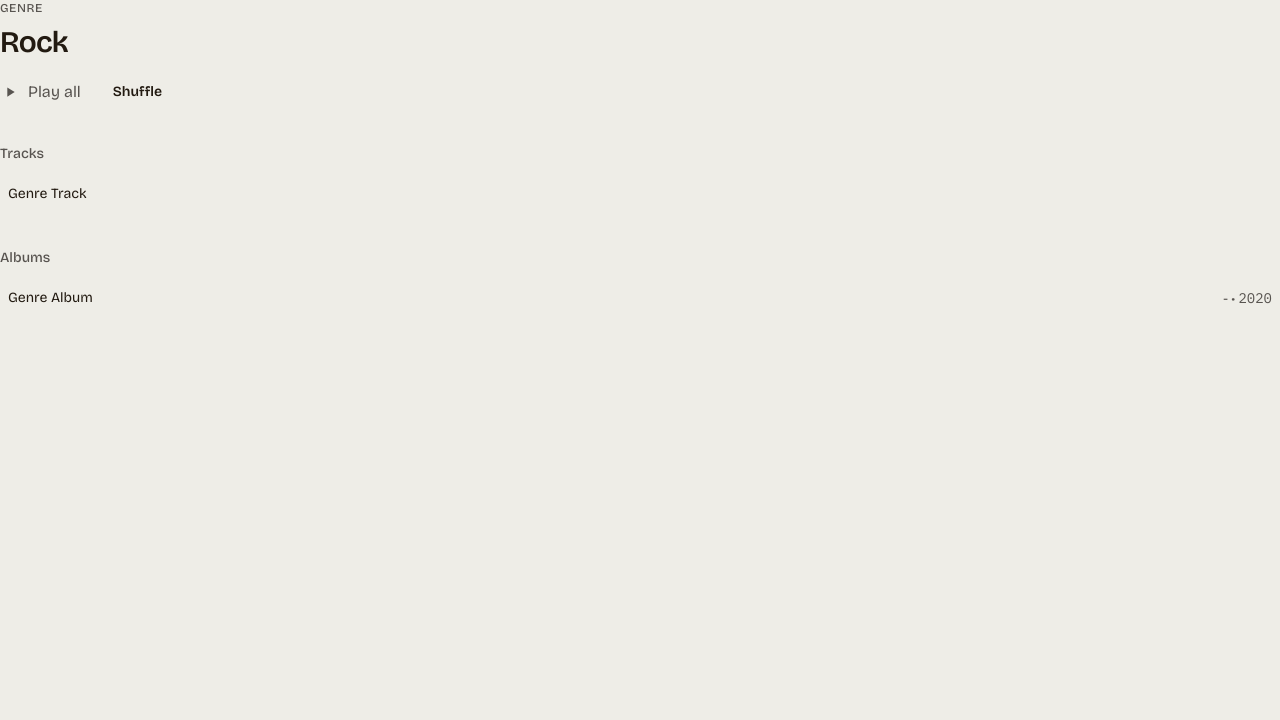
it: Genre › does not delete the genre when the confirm dialog is cancelled
Expected: the text "Genre Track" is shown, x1=8 y1=184 x2=87 y2=204
Step 1. Right-click the heading "Rock" → (34, 42), box x1=0 y1=24 x2=68 y2=60
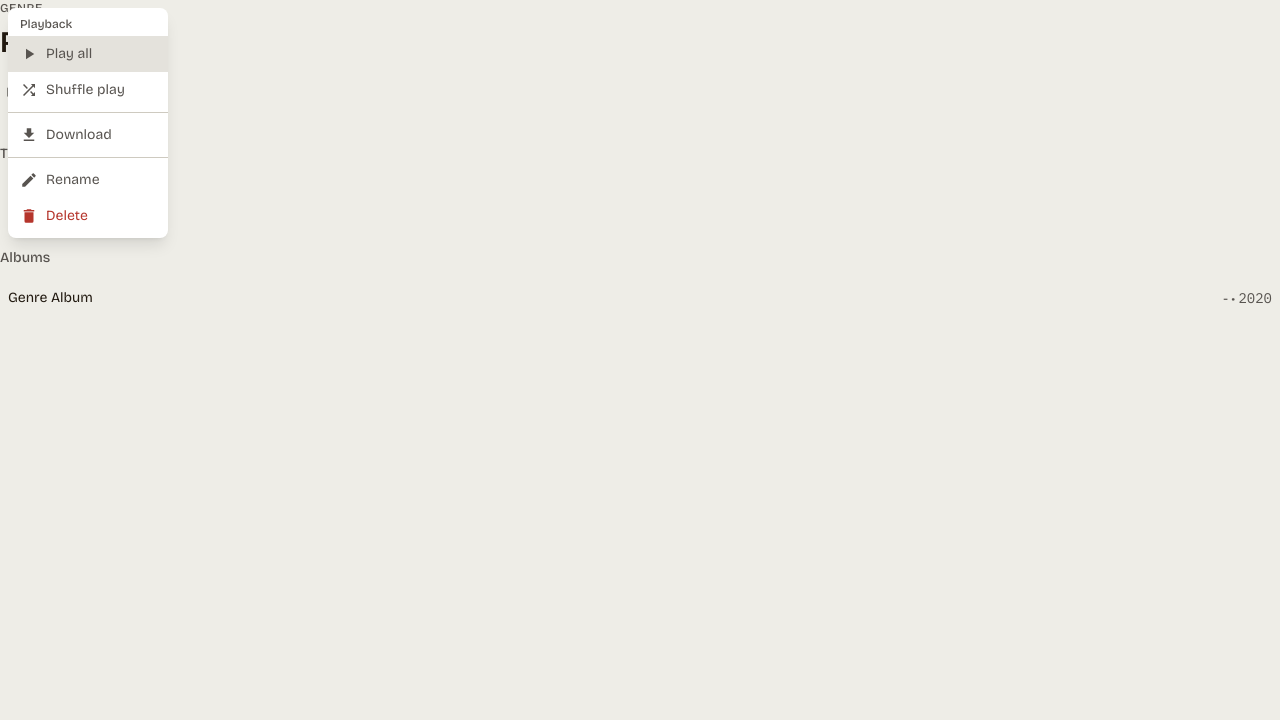
Step 2. Click the menu item "Delete" → (88, 216), box x1=8 y1=198 x2=168 y2=234
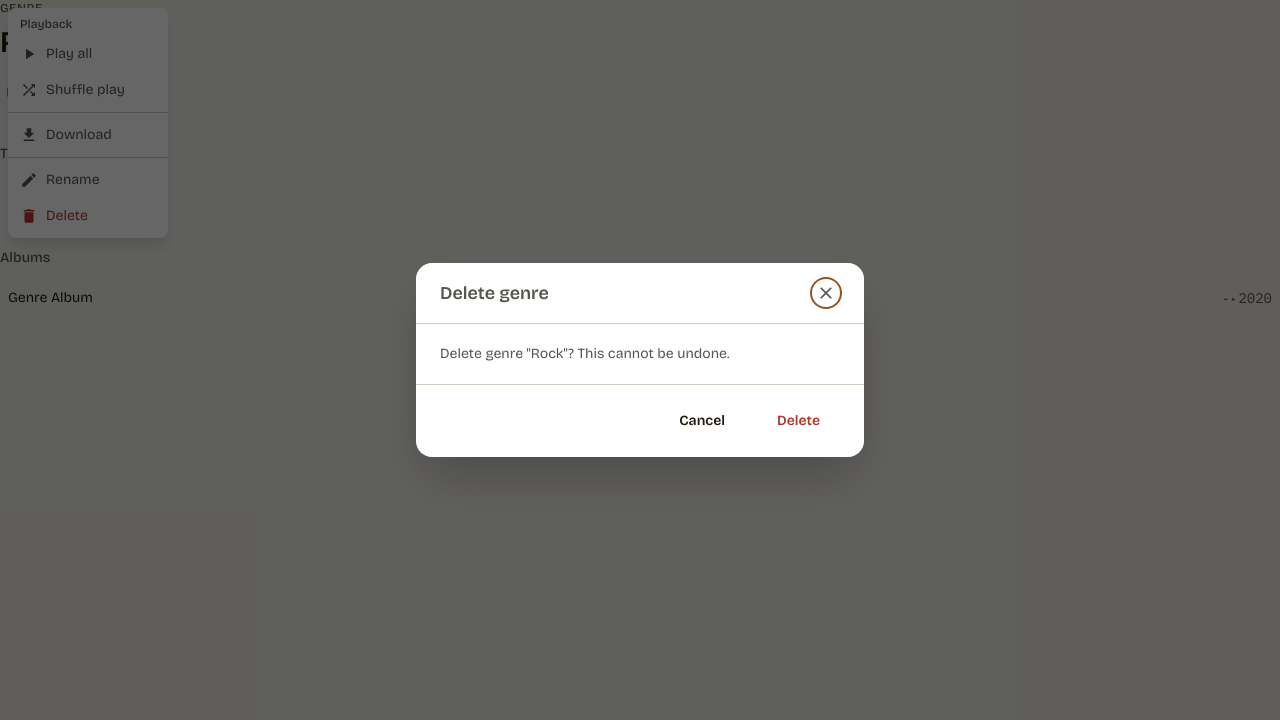
Step 3. Click the button "Cancel" → (702, 421), box x1=659 y1=401 x2=745 y2=441
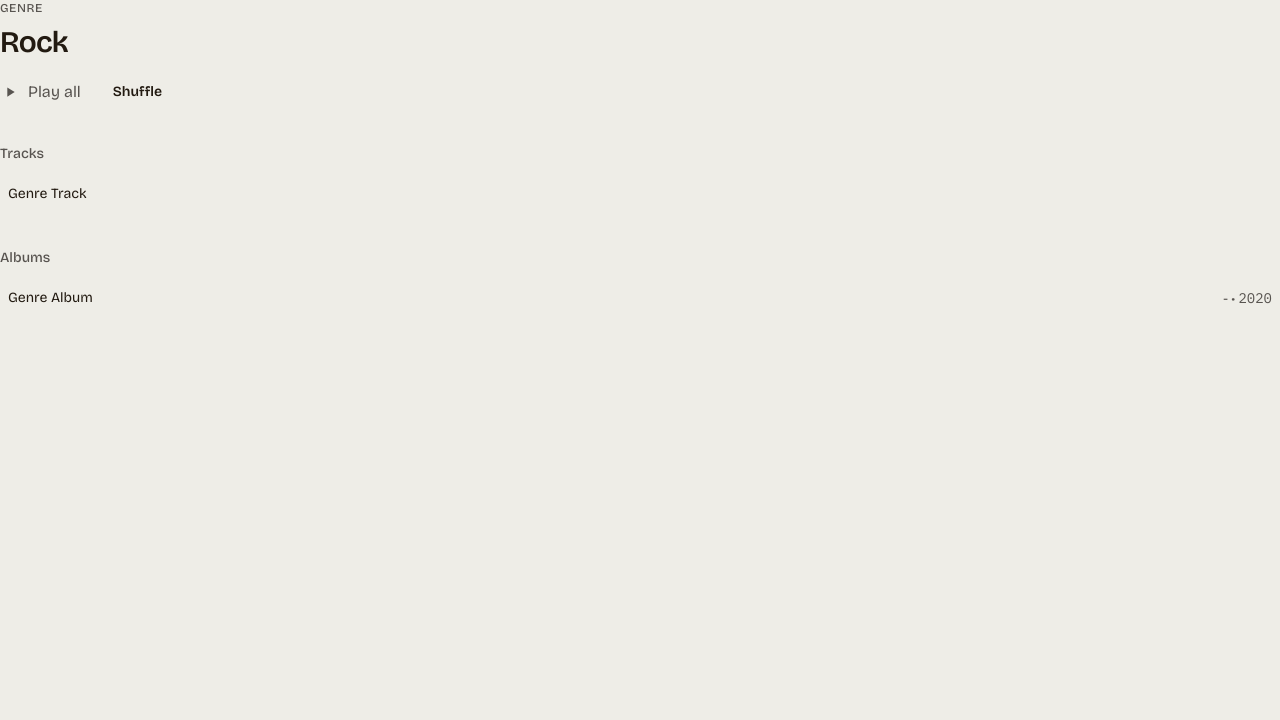
Expected: the dialog is gone
